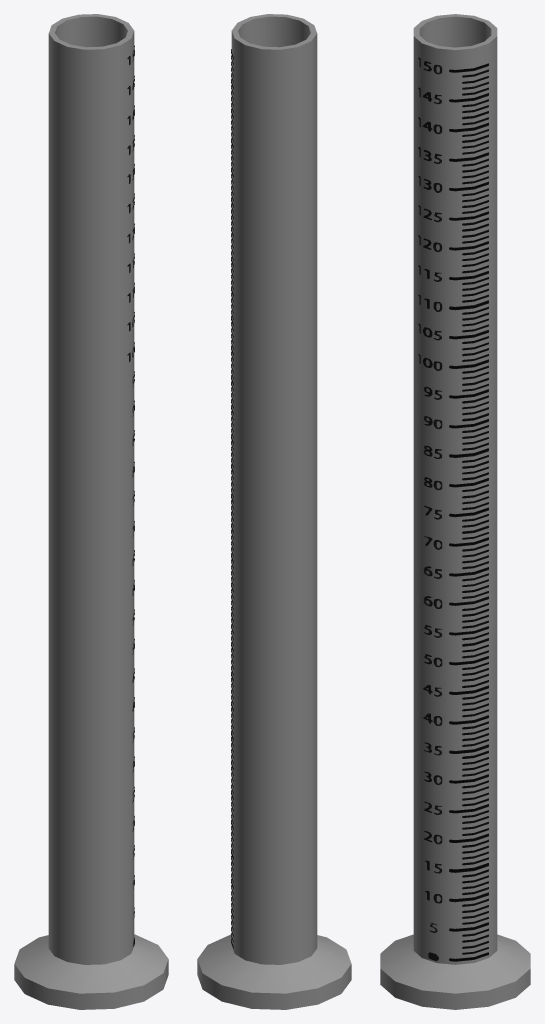
The picture shows the model from 3 angles, left to right: view 1: azimuth 30°, elevation 25°; view 2: azimuth 150°, elevation 25°; view 3: azimuth 270°, elevation 25°; orthographic projection.
Visible parts, largest first — view 1: SM_量筒刻度; view 2: SM_量筒刻度; view 3: SM_量筒刻度.
Part boxes in pixels (x1,y1,x2,y2): SM_量筒刻度: [14, 14, 168, 1009]; SM_量筒刻度: [197, 14, 351, 1009]; SM_量筒刻度: [380, 14, 530, 1009].
Bounding box in the file's own units: 54.5 × 368 × 53.14.
